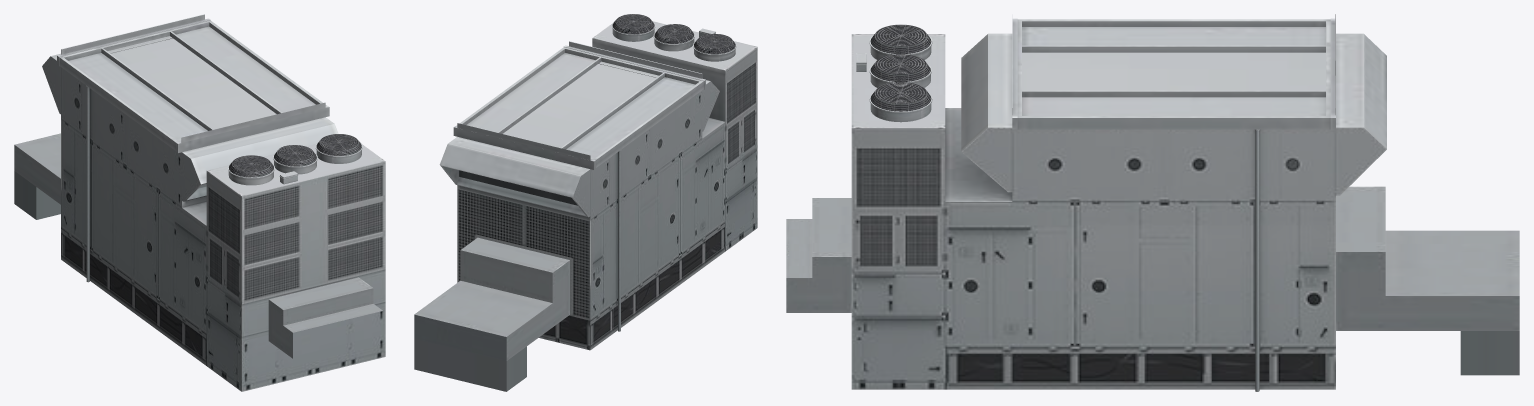
File: thermohygrostatTop.gltf
The picture shows the model from 3 angles, left to right: view 1: azimuth 30°, elevation 25°; view 2: azimuth 150°, elevation 25°; view 3: azimuth 270°, elevation 25°; orthographic projection. The views are drawn at different scales.
Visible parts, largest first — view 1: thermohygrostat; view 2: thermohygrostat; view 3: thermohygrostat.
Part boxes in pixels (<box>): thermohygrostat: <box>14,14,385,391</box>; thermohygrostat: <box>414,14,757,391</box>; thermohygrostat: <box>786,14,1519,391</box>.
Size of the model in its own units: 36.51 by 48.39 by 114.
1 material, 1 textured.
